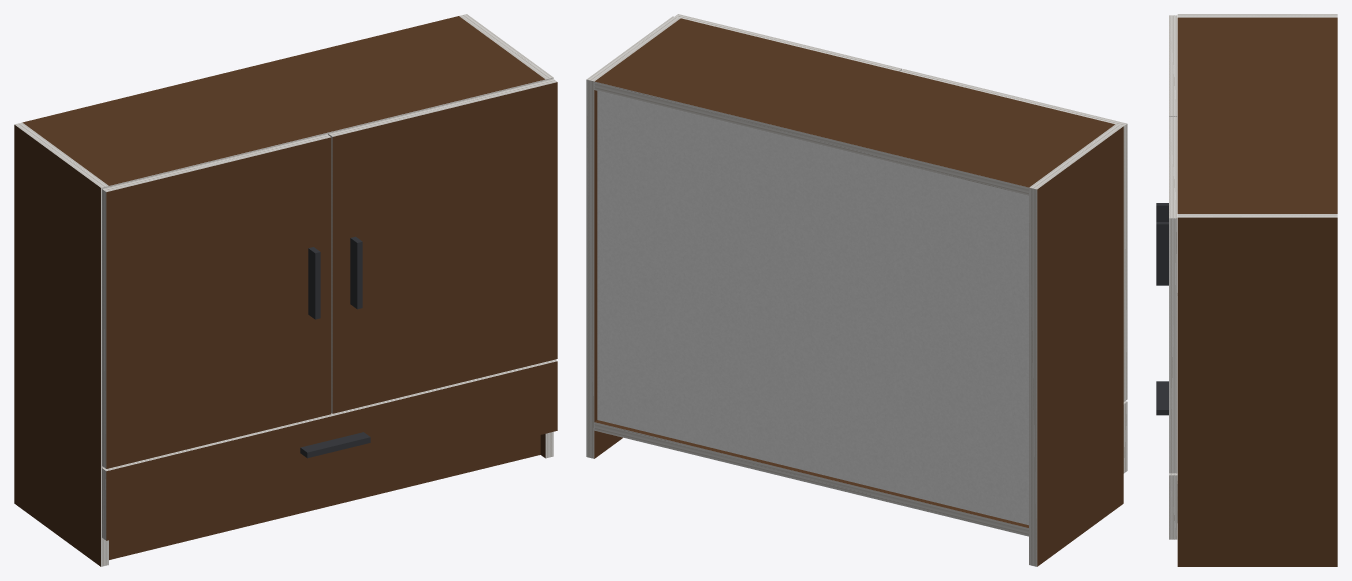
Rendered from ATL-CON-std.glb.
3 renders of one model, left to right at view 1: azimuth 30°, elevation 25°; view 2: azimuth 150°, elevation 25°; view 3: azimuth 270°, elevation 25°, orthographic. The views are drawn at different scales.
Visible parts, largest first — view 1: door-r:pbr, door-l:pbr, top:pbr, side-l:pbr, d1-front:pbr, plinth:pbr, pull, door-l:sheet:eyJtIjoicGx5Iiwic2lkZSI6ImVkZ2UtbG9uZyIsInNlZWQ, d1-front:sheet:eyJtIjoicGx5Iiwic2lkZSI6ImVkZ2UtbG9uZyIsInNlZ, door-l:sheet:eyJtIjoicGx5Iiwic2lkZSI6ImVkZ2UtZW5kIiwic2VlZCI, door-r:sheet:eyJtIjoicGx5Iiwic2lkZSI6ImVkZ2UtZW5kIiwic2VlZCI, top:sheet:eyJtIjoicGx5Iiwic2lkZSI6ImVkZ2UtbG9uZyIsInNlZWQiOj (+2 smaller); view 2: back:sheet:eyJtIjoibWRmIiwic2lkZSI6ImZhY2UiLCJzZWVkIjoyLCJ0a, top:pbr, side-l:pbr, top:sheet:eyJtIjoicGx5Iiwic2lkZSI6ImVkZ2UtbG9uZyIsInNlZWQiOj, bottom:sheet:eyJtIjoicGx5Iiwic2lkZSI6ImVkZ2UtbG9uZyIsInNlZWQ, side-r:sheet:eyJtIjoicGx5Iiwic2lkZSI6ImVkZ2UtbG9uZyIsInNlZWQ, side-l:sheet:eyJtIjoicGx5Iiwic2lkZSI6ImVkZ2UtbG9uZyIsInNlZWQ, side-r:pbr, bottom:pbr, door-l:sheet:eyJtIjoicGx5Iiwic2lkZSI6ImVkZ2UtbG9uZyIsInNlZWQ, door-r:sheet:eyJtIjoicGx5Iiwic2lkZSI6ImVkZ2UtZW5kIiwic2VlZCI, door-l:sheet:eyJtIjoicGx5Iiwic2lkZSI6ImVkZ2UtZW5kIiwic2VlZCI (+2 smaller); view 3: side-r:pbr, top:pbr, door-r:sheet:eyJtIjoicGx5Iiwic2lkZSI6ImVkZ2UtbG9uZyIsInNlZWQ, pull, door-l:sheet:eyJtIjoicGx5Iiwic2lkZSI6ImVkZ2UtZW5kIiwic2VlZCI, door-r:sheet:eyJtIjoicGx5Iiwic2lkZSI6ImVkZ2UtZW5kIiwic2VlZCI, side-l:sheet:eyJtIjoicGx5Iiwic2lkZSI6ImVkZ2UtZW5kIiwic2VlZCI, side-r:sheet:eyJtIjoicGx5Iiwic2lkZSI6ImVkZ2UtZW5kIiwic2VlZCI, d1-front:sheet:eyJtIjoicGx5Iiwic2lkZSI6ImVkZ2UtZW5kIiwic2VlZ.
Boxes of the visible parts, left/top/right/bottom form: door-r:pbr: left=332, top=82, right=557, bottom=413; door-l:pbr: left=106, top=137, right=331, bottom=468; top:pbr: left=22, top=16, right=545, bottom=185; side-l:pbr: left=14, top=125, right=100, bottom=566; d1-front:pbr: left=106, top=361, right=557, bottom=540; plinth:pbr: left=109, top=435, right=540, bottom=559; pull: left=300, top=236, right=370, bottom=458; door-l:sheet:eyJtIjoicGx5Iiwic2lkZSI6ImVkZ2UtbG9uZyIsInNlZWQ: left=102, top=189, right=106, bottom=468; d1-front:sheet:eyJtIjoicGx5Iiwic2lkZSI6ImVkZ2UtbG9uZyIsInNlZ: left=102, top=359, right=557, bottom=470; door-l:sheet:eyJtIjoicGx5Iiwic2lkZSI6ImVkZ2UtZW5kIiwic2VlZCI: left=102, top=134, right=330, bottom=191; door-r:sheet:eyJtIjoicGx5Iiwic2lkZSI6ImVkZ2UtZW5kIiwic2VlZCI: left=328, top=79, right=556, bottom=136; top:sheet:eyJtIjoicGx5Iiwic2lkZSI6ImVkZ2UtbG9uZyIsInNlZWQiOj: left=109, top=79, right=545, bottom=186; back:sheet:eyJtIjoibWRmIiwic2lkZSI6ImZhY2UiLCJzZWVkIjoyLCJ0a: left=597, top=91, right=1028, bottom=525; top:pbr: left=595, top=18, right=1114, bottom=187; side-l:pbr: left=1037, top=126, right=1123, bottom=566; top:sheet:eyJtIjoicGx5Iiwic2lkZSI6ImVkZ2UtbG9uZyIsInNlZWQiOj: left=594, top=81, right=1028, bottom=195; bottom:sheet:eyJtIjoicGx5Iiwic2lkZSI6ImVkZ2UtbG9uZyIsInNlZWQ: left=594, top=422, right=1028, bottom=536; side-r:sheet:eyJtIjoicGx5Iiwic2lkZSI6ImVkZ2UtbG9uZyIsInNlZWQ: left=586, top=79, right=594, bottom=458; side-l:sheet:eyJtIjoicGx5Iiwic2lkZSI6ImVkZ2UtbG9uZyIsInNlZWQ: left=1029, top=187, right=1037, bottom=566; side-r:pbr: left=594, top=90, right=622, bottom=458; bottom:pbr: left=595, top=420, right=1028, bottom=527; door-l:sheet:eyJtIjoicGx5Iiwic2lkZSI6ImVkZ2UtbG9uZyIsInNlZWQ: left=1123, top=124, right=1127, bottom=401; door-r:sheet:eyJtIjoicGx5Iiwic2lkZSI6ImVkZ2UtZW5kIiwic2VlZCI: left=675, top=14, right=901, bottom=71; door-l:sheet:eyJtIjoicGx5Iiwic2lkZSI6ImVkZ2UtZW5kIiwic2VlZCI: left=900, top=69, right=1126, bottom=126; side-r:pbr: left=1177, top=217, right=1337, bottom=566; top:pbr: left=1177, top=17, right=1337, bottom=213; door-r:sheet:eyJtIjoicGx5Iiwic2lkZSI6ImVkZ2UtbG9uZyIsInNlZWQ: left=1169, top=218, right=1177, bottom=473; pull: left=1156, top=203, right=1168, bottom=415; door-l:sheet:eyJtIjoicGx5Iiwic2lkZSI6ImVkZ2UtZW5kIiwic2VlZCI: left=1169, top=15, right=1177, bottom=116; door-r:sheet:eyJtIjoicGx5Iiwic2lkZSI6ImVkZ2UtZW5kIiwic2VlZCI: left=1169, top=117, right=1177, bottom=218; side-l:sheet:eyJtIjoicGx5Iiwic2lkZSI6ImVkZ2UtZW5kIiwic2VlZCI: left=1177, top=14, right=1337, bottom=17; side-r:sheet:eyJtIjoicGx5Iiwic2lkZSI6ImVkZ2UtZW5kIiwic2VlZCI: left=1177, top=214, right=1337, bottom=217; d1-front:sheet:eyJtIjoicGx5Iiwic2lkZSI6ImVkZ2UtZW5kIiwic2VlZ: left=1169, top=475, right=1177, bottom=539.
Size of the model in its own units: 1 by 0.8 by 0.3766.
55 materials, 42 textured.
